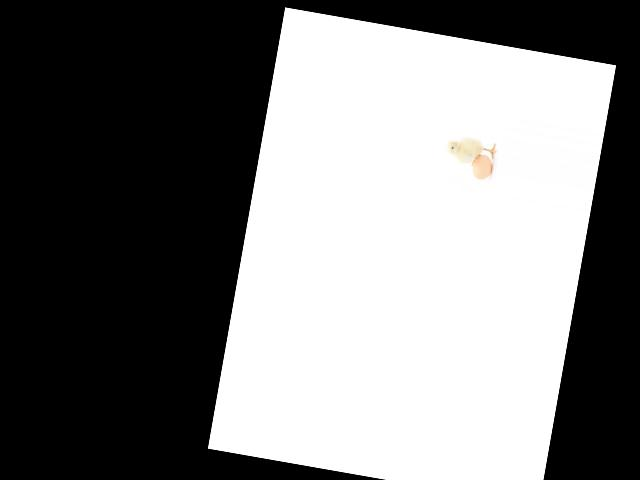egg: (470, 152, 494, 181)
